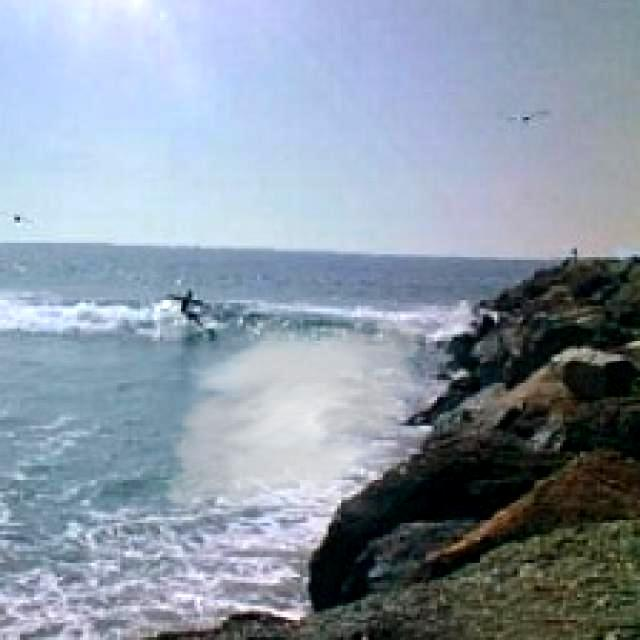Smoke: (155, 300, 435, 526)
